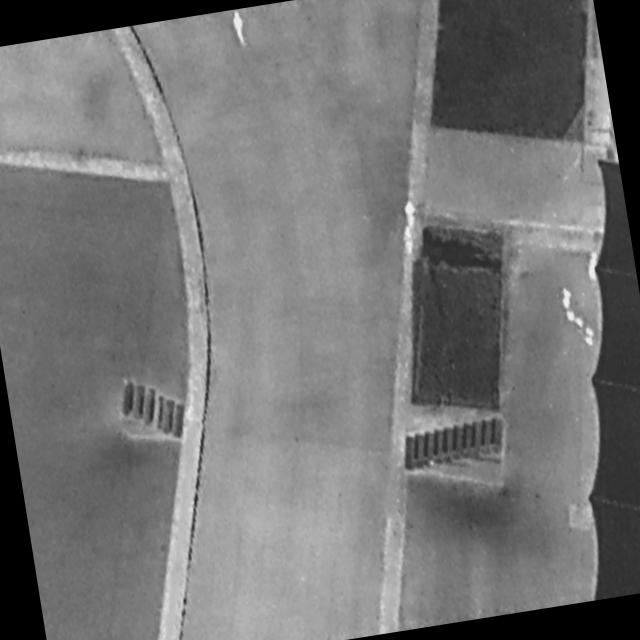person: (231, 9, 251, 50), (583, 250, 604, 286), (402, 225, 417, 257), (405, 199, 420, 229)
